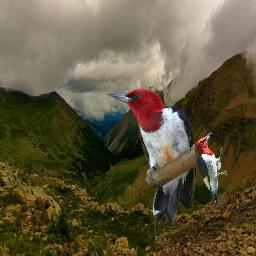Woodpecker: (107, 88, 196, 230), (195, 132, 227, 209)
